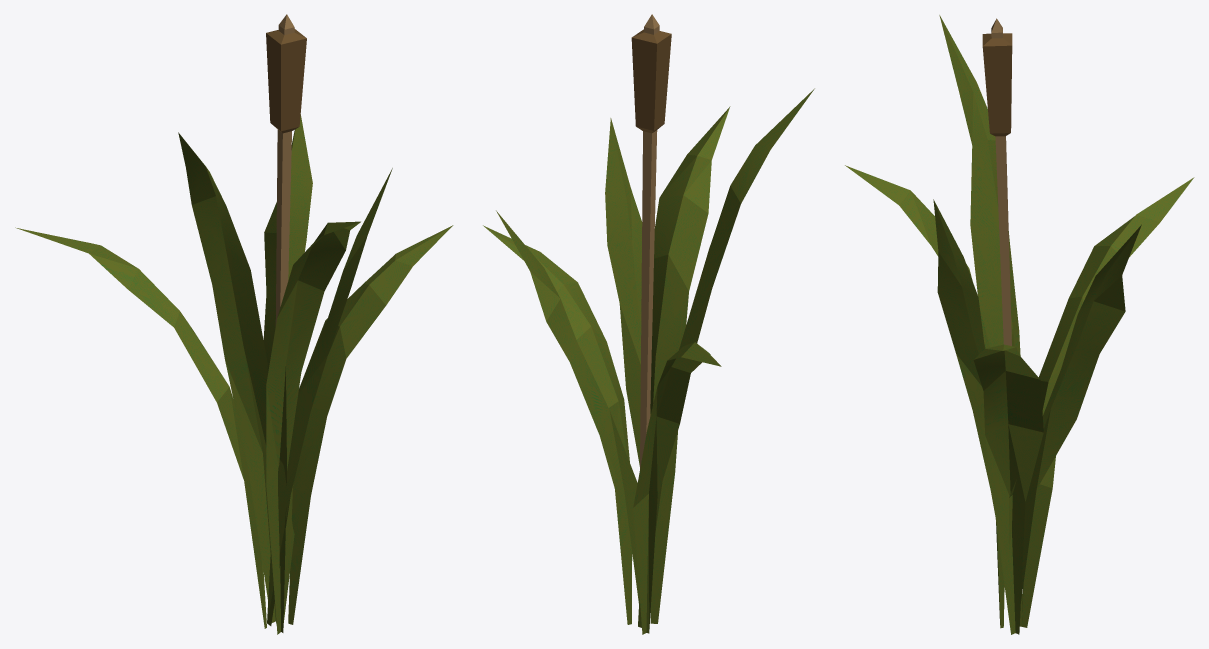
File: Plant_06.fbx
The picture shows the model from 3 angles, left to right: view 1: azimuth 30°, elevation 25°; view 2: azimuth 150°, elevation 25°; view 3: azimuth 270°, elevation 25°; orthographic projection. The views are drawn at different scales.
Visible parts, largest first — view 1: polySurface129; view 2: polySurface129; view 3: polySurface129.
Part boxes in pixels (x1,y1,x2,y2): polySurface129: (15, 14, 453, 634); polySurface129: (483, 14, 814, 634); polySurface129: (845, 15, 1194, 634).
Bounding box in the file's own units: 168 × 292 × 151.
